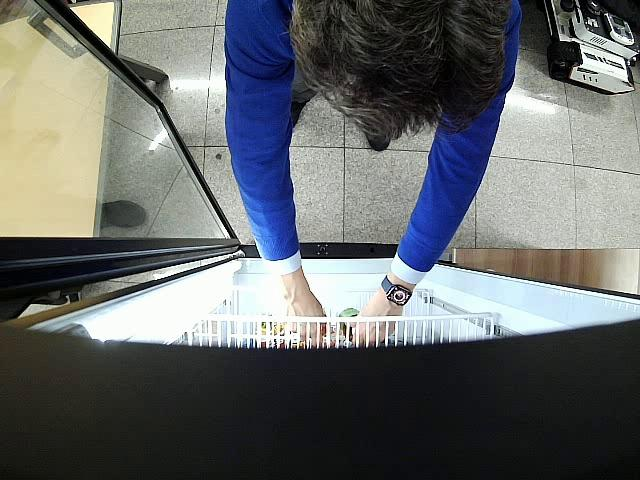00_hand: (279, 274, 328, 348), (354, 304, 402, 344)
19_17cha: (338, 307, 360, 341)
